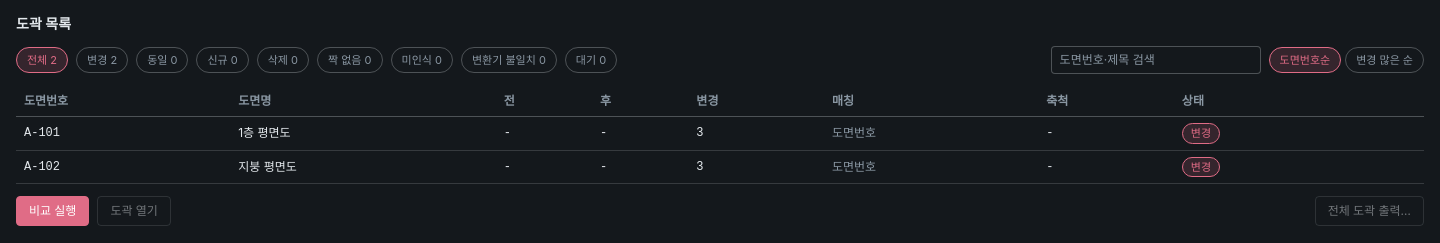
Scenario: SheetListScreen › search narrows by sheet number or title
Type "지붕" into the search field labelled "도면번호·제목 검색" at x=1156, y=60, box [1051,46,1261,74]
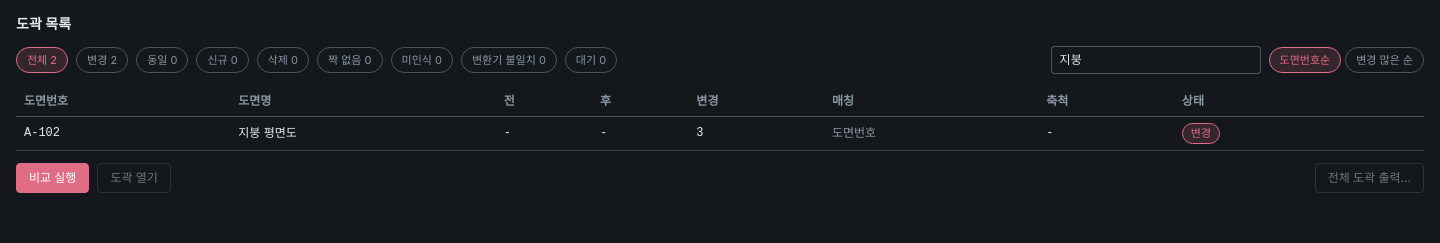
Expected: the text "A-102" is shown, [16,116,230,150]
Result: the text "A-101" is gone
